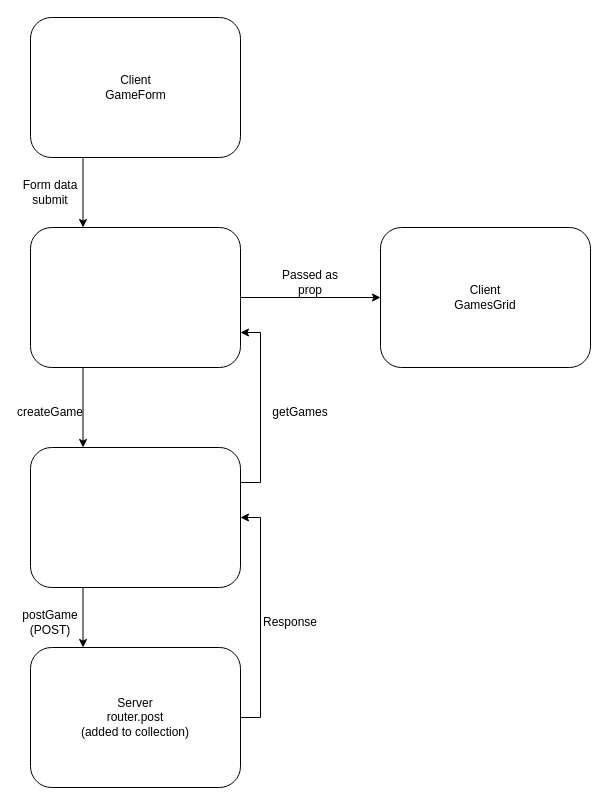
Image size: 608x805. Some labels were removed from this diagram. The shapes that lost their labels are listed below. From the top down, each one's box as (x1, y1, x2, y2) in pixels, then its label:
(30, 226, 240, 368): Client GamesContainer
(30, 446, 240, 588): Client GamesService
